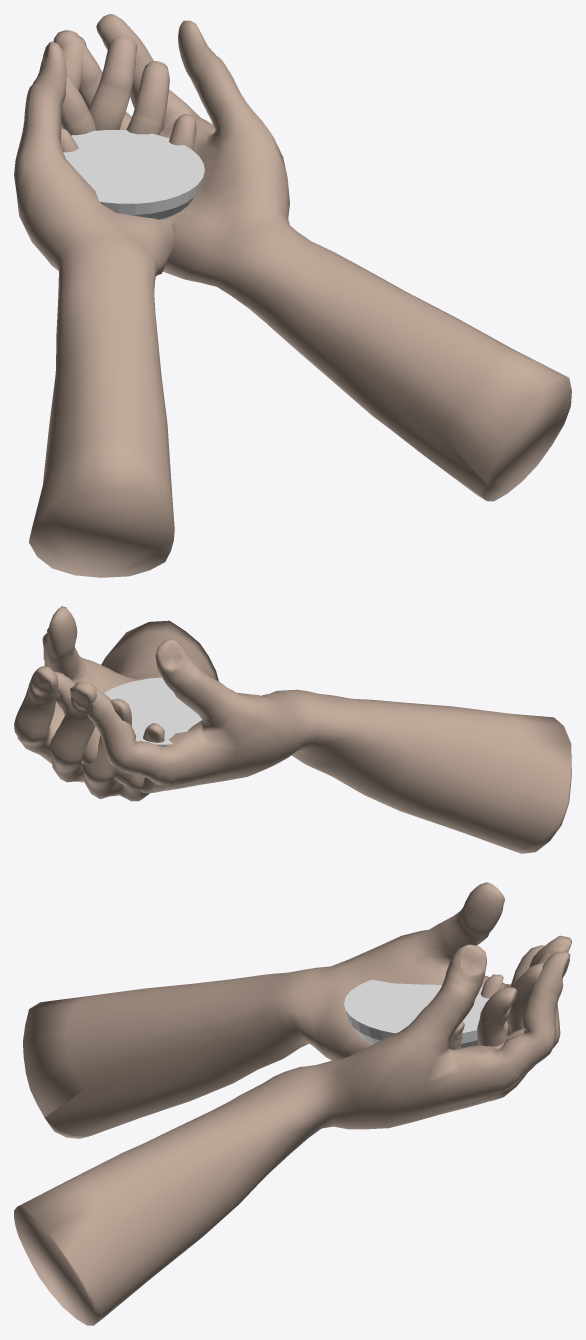
The model's file is hands.glb.
The picture shows the model from 3 angles, top to bottom: view 1: azimuth 30°, elevation 25°; view 2: azimuth 150°, elevation 25°; view 3: azimuth 270°, elevation 25°; orthographic projection. The views are drawn at different scales.
Visible parts, largest first — view 1: HandR, HandL, Water; view 2: HandL, HandR, Water; view 3: HandR, HandL, Water.
Boxes of the visible parts, <box> form: HandR: <box>53,14,571,501</box>; HandL: <box>14,35,196,577</box>; Water: <box>63,130,204,219</box>; HandL: <box>54,639,571,853</box>; HandR: <box>14,606,218,801</box>; Water: <box>104,677,201,746</box>; HandR: <box>14,935,571,1325</box>; HandL: <box>23,882,566,1138</box>; Water: <box>344,979,505,1048</box>.
Size of the model in its own units: 0.3008 by 0.1884 by 0.2909.
